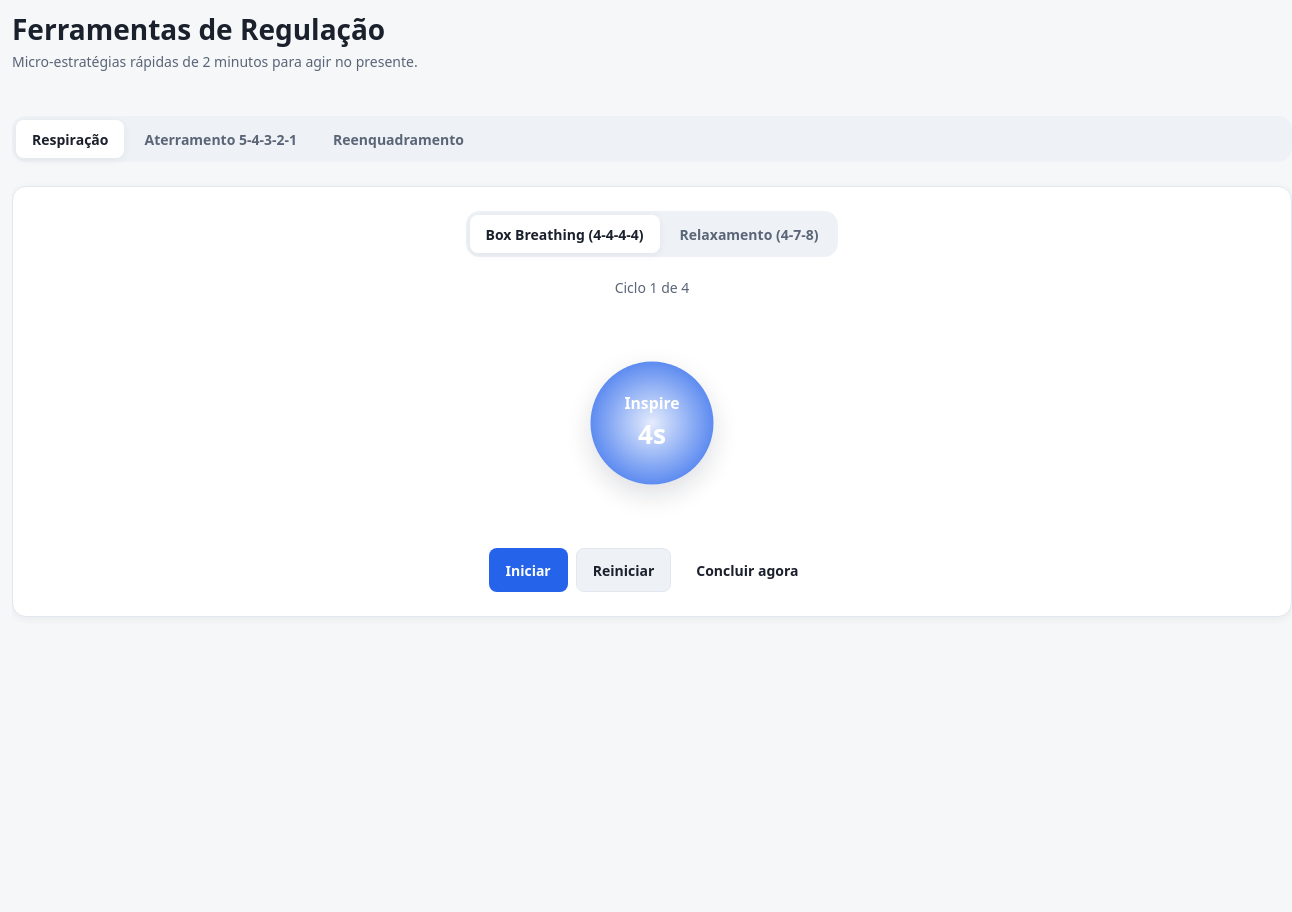
Página de Ferramentas de Regulação (ToolsPage) › deve concluir exercício de respiração e registrar o resultado escolhido
The width and height of the screenshot is (1292, 912).
Click the button "Concluir agora" at coordinates (747, 570), box x1=679 y1=548 x2=816 y2=592
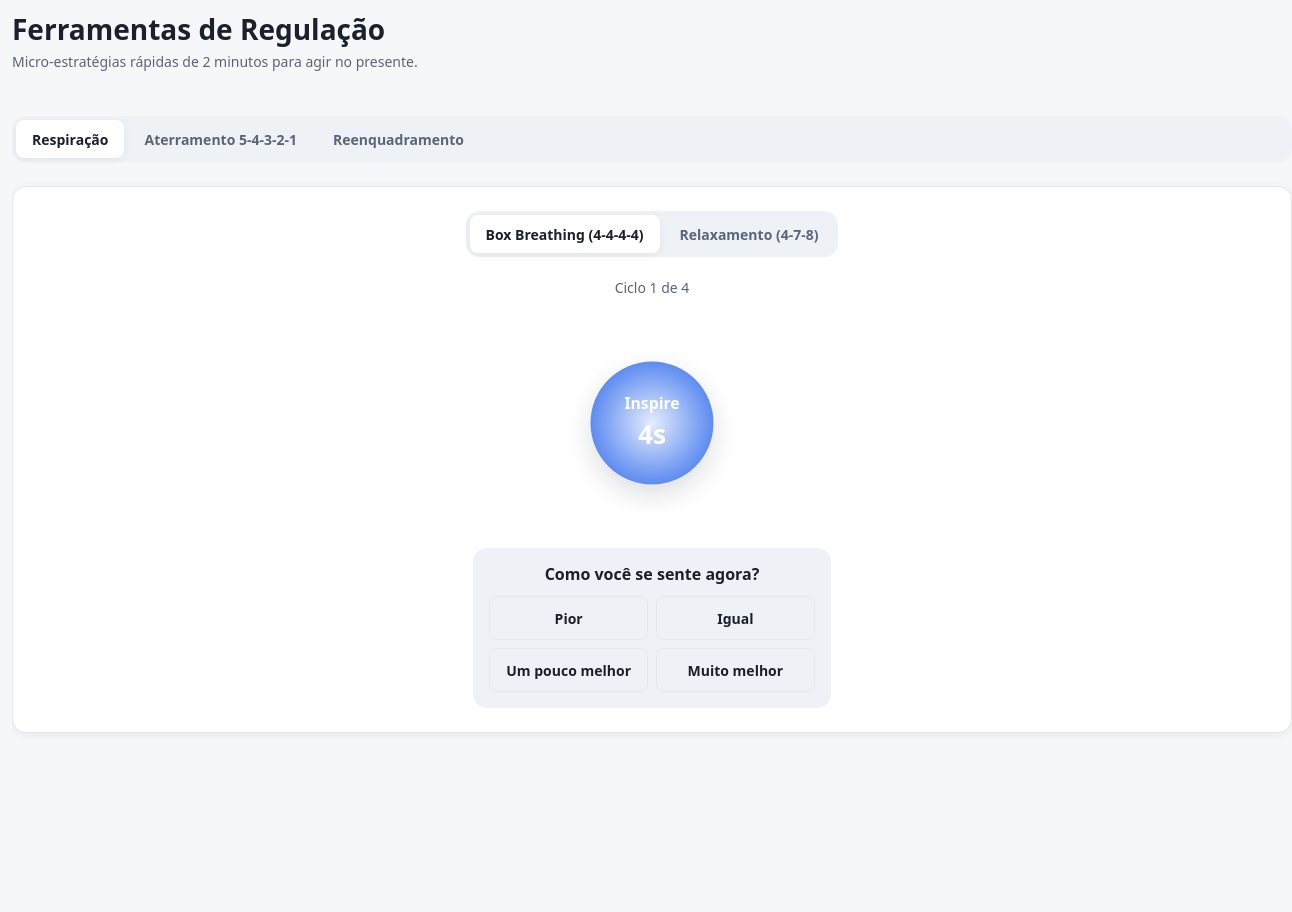
Check: the heading "Como você se sente agora?" is shown, box x1=545 y1=563 x2=759 y2=585
Click the button "Muito melhor" at coordinates (735, 670), box x1=656 y1=648 x2=815 y2=692
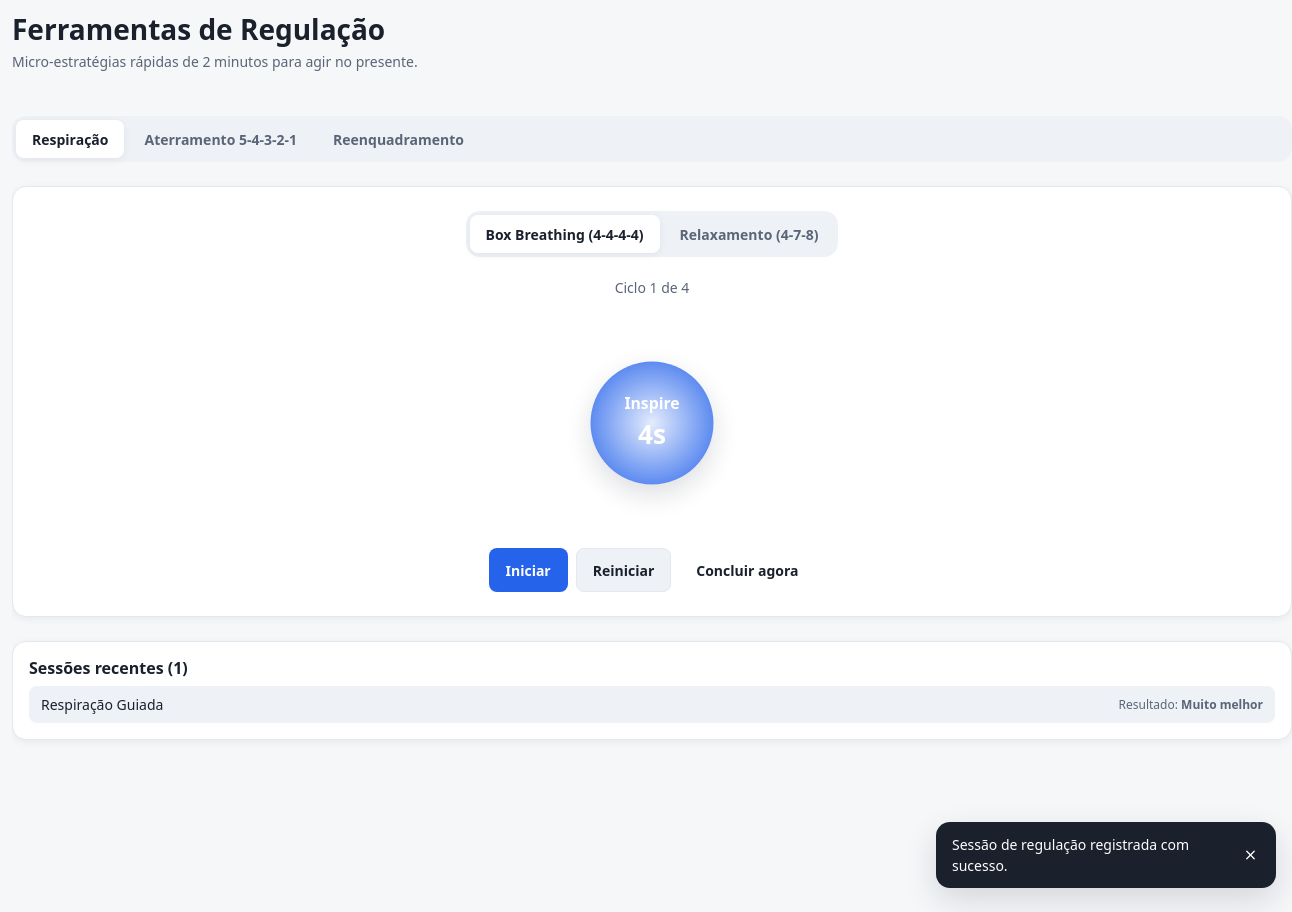
Check: the heading "Sessões recentes (1)" is shown, box x1=29 y1=657 x2=188 y2=679
